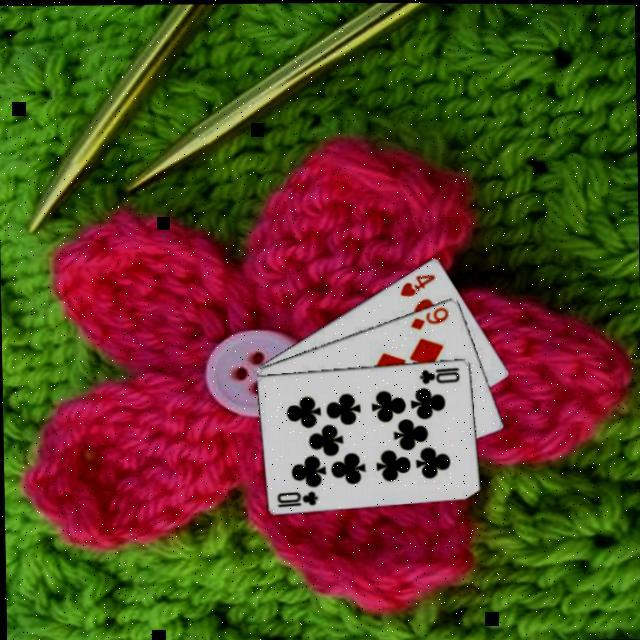10C: (414, 364, 460, 387), (272, 488, 318, 511)
4H: (395, 272, 437, 300)
9D: (405, 304, 449, 333)
